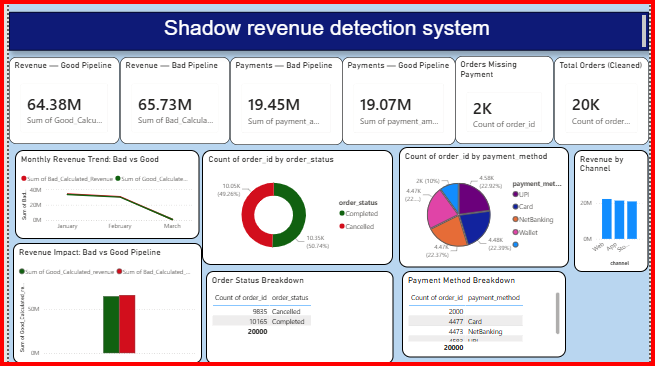

Layout of this report page (visuals, bound fields, positions):
{"tool":"powerbi","page":{"name":"Page 1","canvas":[1280,720],"ordinal":0},"visuals":[{"type":"cardVisual","title":"Revenue — Good Pipeline","fields":{"Data":["Sum(fact_revenue_good.calculated_revenue)"]},"box":[0,105.7,221.4,174.3],"z":0},{"type":"cardVisual","title":"Revenue — Bad Pipeline","fields":{"Data":["Sum(fact_revenue_bad.calculated_revenue)"]},"box":[221.4,105.7,220,174.3],"z":1000},{"type":"cardVisual","title":"Payments — Bad Pipeline","fields":{"Data":["Sum(fact_revenue_bad.payment_amount)"]},"box":[441.4,105.7,225.7,175.7],"z":2000},{"type":"cardVisual","title":"Payments — Good Pipeline","fields":{"Data":["Sum(fact_revenue_good.payment_amount)"]},"box":[665.7,105.7,227.1,175.7],"z":3000},{"type":"textbox","box":[0,15,1280,76.7],"z":4000},{"type":"clusteredColumnChart","title":"Revenue Impact: Bad vs Good Pipeline","fields":{"Y":["Sum(fact_revenue_good.calculated_revenue)","Sum(fact_revenue_bad.calculated_revenue)"]},"box":[7.5,478.8,377.5,241.2],"z":5000},{"type":"cardVisual","title":"Total Orders (Cleaned)","fields":{"Data":["Count(fact_revenue_good.order_id)"]},"box":[1090,105.7,190,175.7],"z":6000},{"type":"donutChart","fields":{"Category":["fact_revenue_bad.order_status"],"Y":["CountNonNull(fact_revenue_bad.order_id)"]},"box":[386.7,291.7,381.7,230],"z":7000},{"type":"cardVisual","title":"Orders Missing Payment","fields":{"Data":["CountNonNull(fact_revenue_good.order_id)"]},"box":[892.9,104.3,197.1,175.7],"z":8000},{"type":"clusteredColumnChart","title":"Revenue by Channel","fields":{"Category":["fact_revenue_good.channel"],"Y":["Sum(fact_revenue_good.Good_Calculated_revenue)"]},"box":[1130,291.7,148.8,243.8],"z":9000},{"type":"pieChart","fields":{"Category":["fact_revenue_good.payment_method"],"Y":["CountNonNull(fact_revenue_good.order_id)"]},"box":[780,285,340,241.2],"z":10000},{"type":"lineChart","title":"Monthly Revenue Trend: Bad vs Good","fields":{"Category":["fact_revenue_good.order_date.Variation.Date Hierarchy.Month"],"Y":["Sum(fact_revenue_bad.Bad_Calculated_Revenue)","Sum(fact_revenue_good.Good_Calculated_revenue)"]},"box":[11.2,292.5,368.8,177.5],"z":11000},{"type":"tableEx","title":"Order Status Breakdown","fields":{"Values":["fact_revenue_good.order_id","fact_revenue_good.order_status"]},"box":[393.3,533.3,375,186],"z":11001},{"type":"tableEx","title":"Payment Method Breakdown","fields":{"Values":["fact_revenue_good.order_id","fact_revenue_good.payment_method"]},"box":[785,533.3,328.3,173.3],"z":11002}]}

Visuals, with their boxes in screenshot pixels (x1, y1, x2, y2), scaled from the page's 1280x720 canvas onto the 655x366 screenshot:
"Revenue — Good Pipeline" cardVisual: [left=0, top=54, right=113, bottom=142]
"Revenue — Bad Pipeline" cardVisual: [left=113, top=54, right=226, bottom=142]
"Payments — Bad Pipeline" cardVisual: [left=226, top=54, right=341, bottom=143]
"Payments — Good Pipeline" cardVisual: [left=341, top=54, right=457, bottom=143]
textbox: [left=0, top=8, right=654, bottom=47]
"Revenue Impact: Bad vs Good Pipeline" clusteredColumnChart: [left=4, top=243, right=197, bottom=365]
"Total Orders (Cleaned)" cardVisual: [left=558, top=54, right=654, bottom=143]
donutChart - fact_revenue_bad.order_status x CountNonNull(fact_revenue_bad.order_id): [left=198, top=148, right=393, bottom=265]
"Orders Missing Payment" cardVisual: [left=457, top=53, right=558, bottom=142]
"Revenue by Channel" clusteredColumnChart: [left=578, top=148, right=654, bottom=272]
pieChart - fact_revenue_good.payment_method x CountNonNull(fact_revenue_good.order_id): [left=399, top=145, right=573, bottom=267]
"Monthly Revenue Trend: Bad vs Good" lineChart: [left=6, top=149, right=194, bottom=239]
"Order Status Breakdown" tableEx: [left=201, top=271, right=393, bottom=365]
"Payment Method Breakdown" tableEx: [left=402, top=271, right=570, bottom=359]
